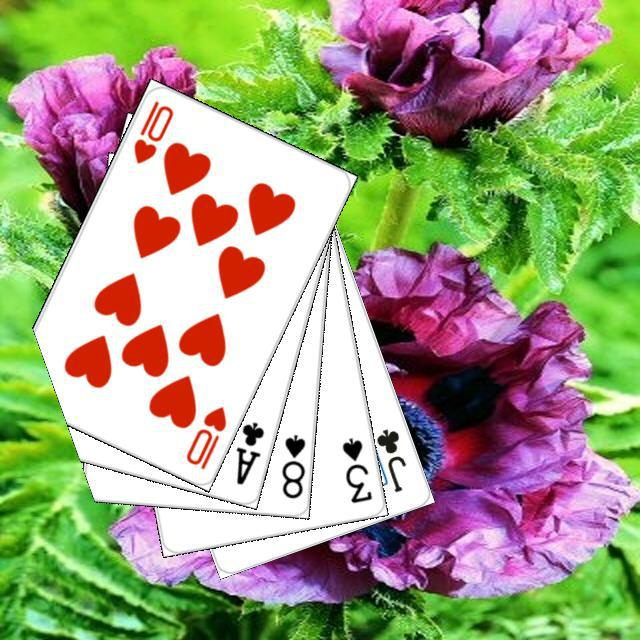10h: (180, 401, 229, 472), (128, 95, 176, 166)
3s: (337, 432, 374, 505)
8s: (276, 430, 307, 500)
Ac: (231, 416, 266, 487)
Jc: (371, 423, 408, 494)
